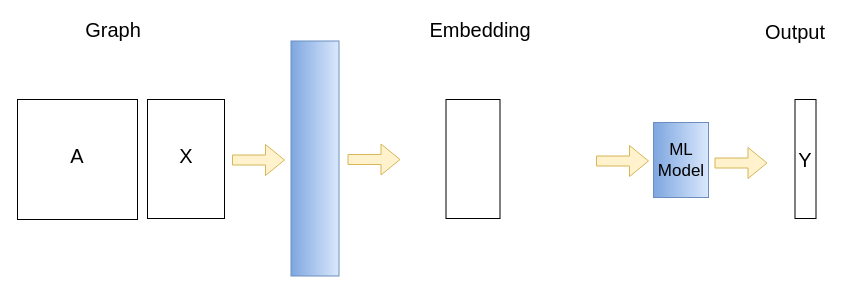
Some shapes in this 843 by 293 pixel diagram are drawn without their labels. The centre of each missing label's shape, as x and y in pixels:
GNN: pixel 314 158
X': pixel 472 158
